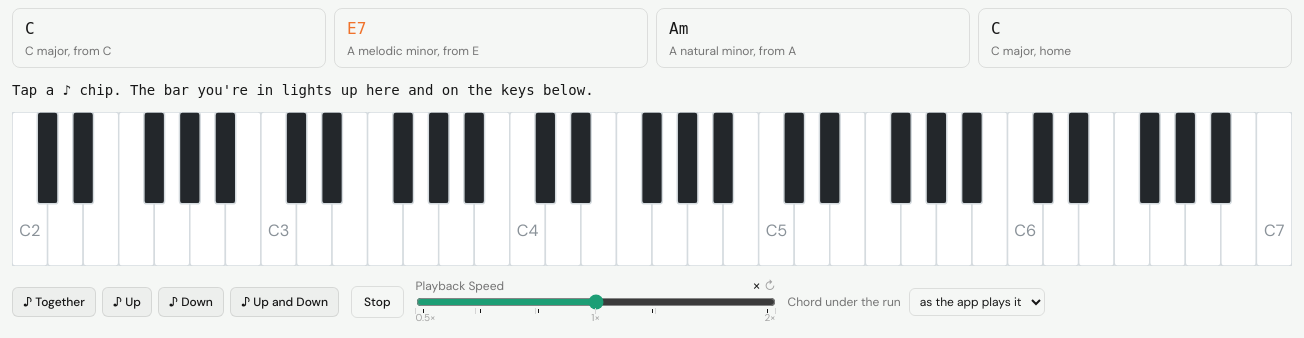
Test: the strip, as it plays › Stop clears every light and every chip; the end says so
This screenshot has width=1304, height=338.
Click the button "♪ Up".
click(127, 302)  # box [102,287,152,317]
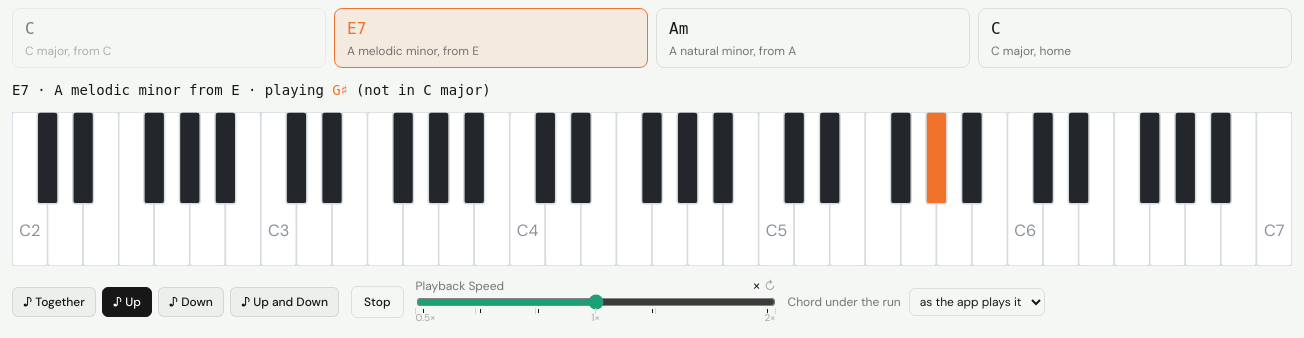
Click the button "Stop".
click(377, 302)  # box [351,286,404,318]
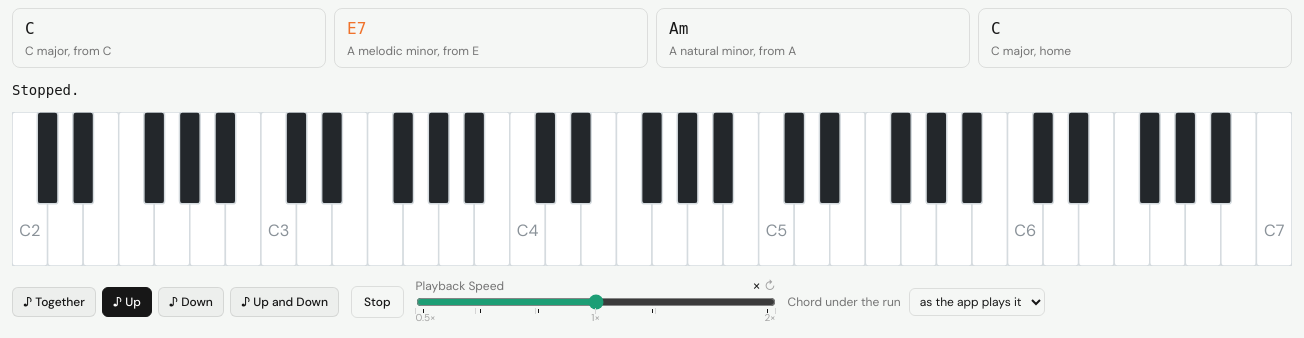
Result: the text "Stopped." is shown at [12,82,79,98]
Click the button "♪ Up".
click(127, 302)  # box [102,287,152,317]
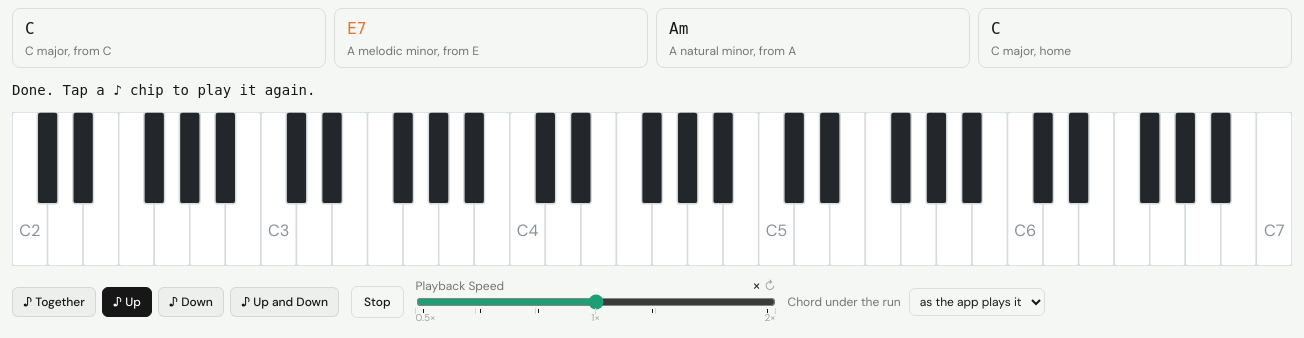
Result: the text "Done. Tap a ♪ chip to play it again." is shown at [12,82,315,98]
